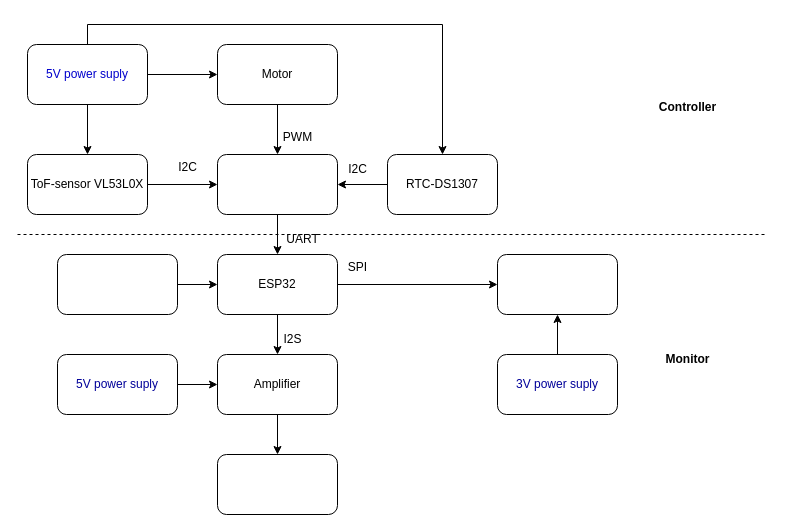
This 786x532 diagram has some shape labels left out. The centre of each missing label's shape, as x and y in pixels:
"3.7V power suply" goes at point (117, 284).
"ATmega328PB" goes at point (277, 184).
"SD card" goes at point (557, 284).
"Speaker" goes at point (277, 484).
